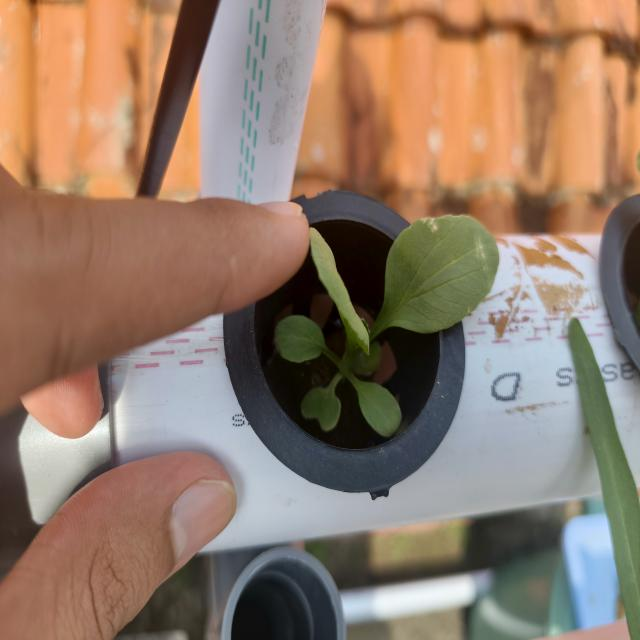daun-pakcoy: (371, 215, 499, 338), (310, 228, 369, 355), (347, 373, 401, 436), (275, 315, 326, 362), (301, 373, 342, 431)
